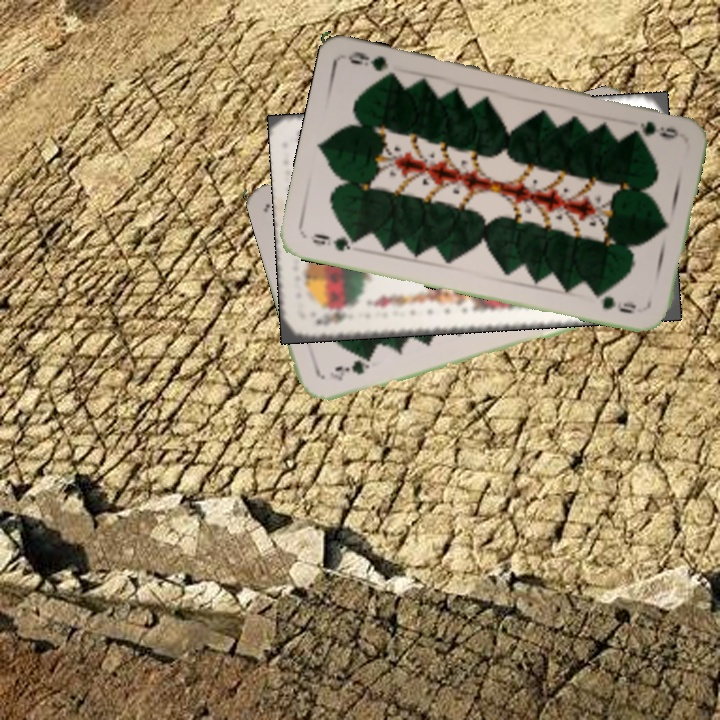G9: (308, 229, 363, 254), (326, 355, 373, 383), (636, 117, 681, 142)
SK: (312, 305, 348, 329)
